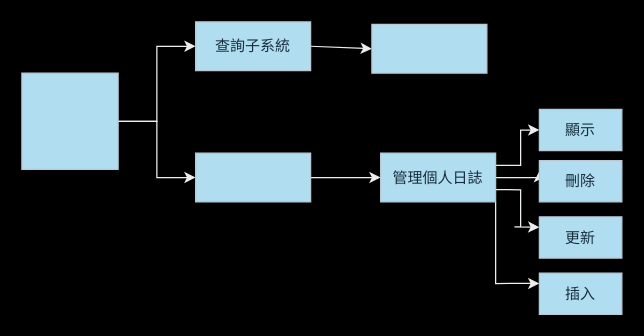
Image size: 644x336. Some labels were removed from this diagram. Here are the shapes that lost their labels. From the top down, the box of each, then its label:
(371, 23, 487, 73): 查詢個人日誌
(21, 72, 118, 169): 登 錄 系 統
(194, 152, 311, 202): 管理子系統
